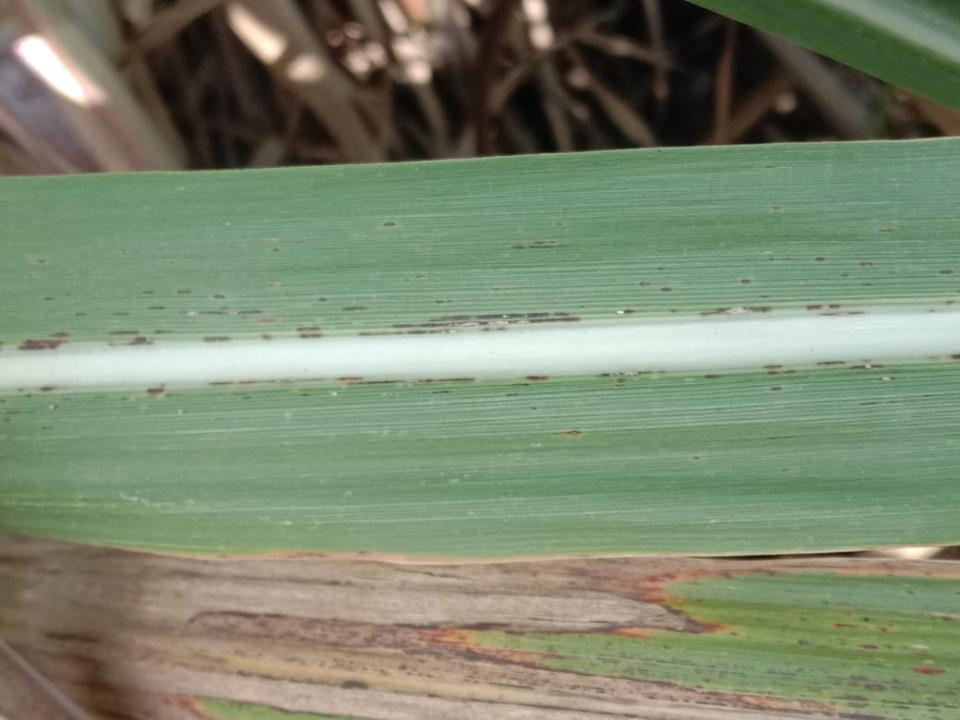Rust: (165, 556, 958, 719), (0, 181, 959, 301), (0, 345, 959, 441), (701, 157, 796, 230), (258, 216, 418, 259), (752, 428, 799, 483), (681, 445, 711, 479), (865, 220, 899, 238)
